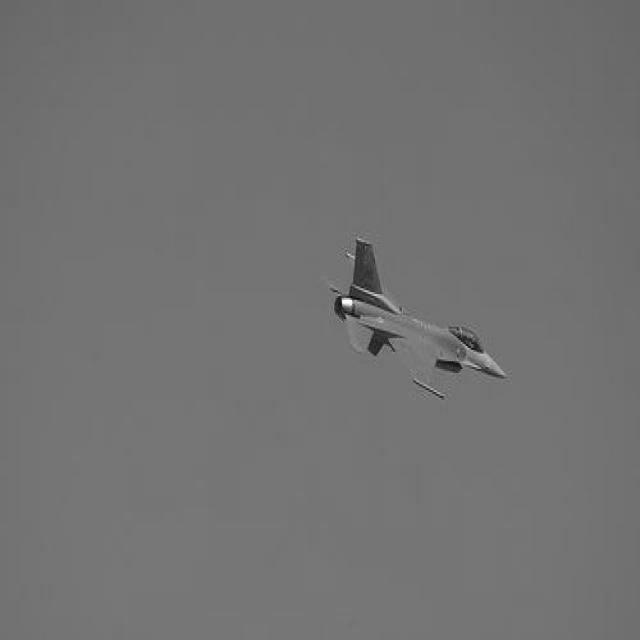aeroplane: (324, 235, 511, 408)
